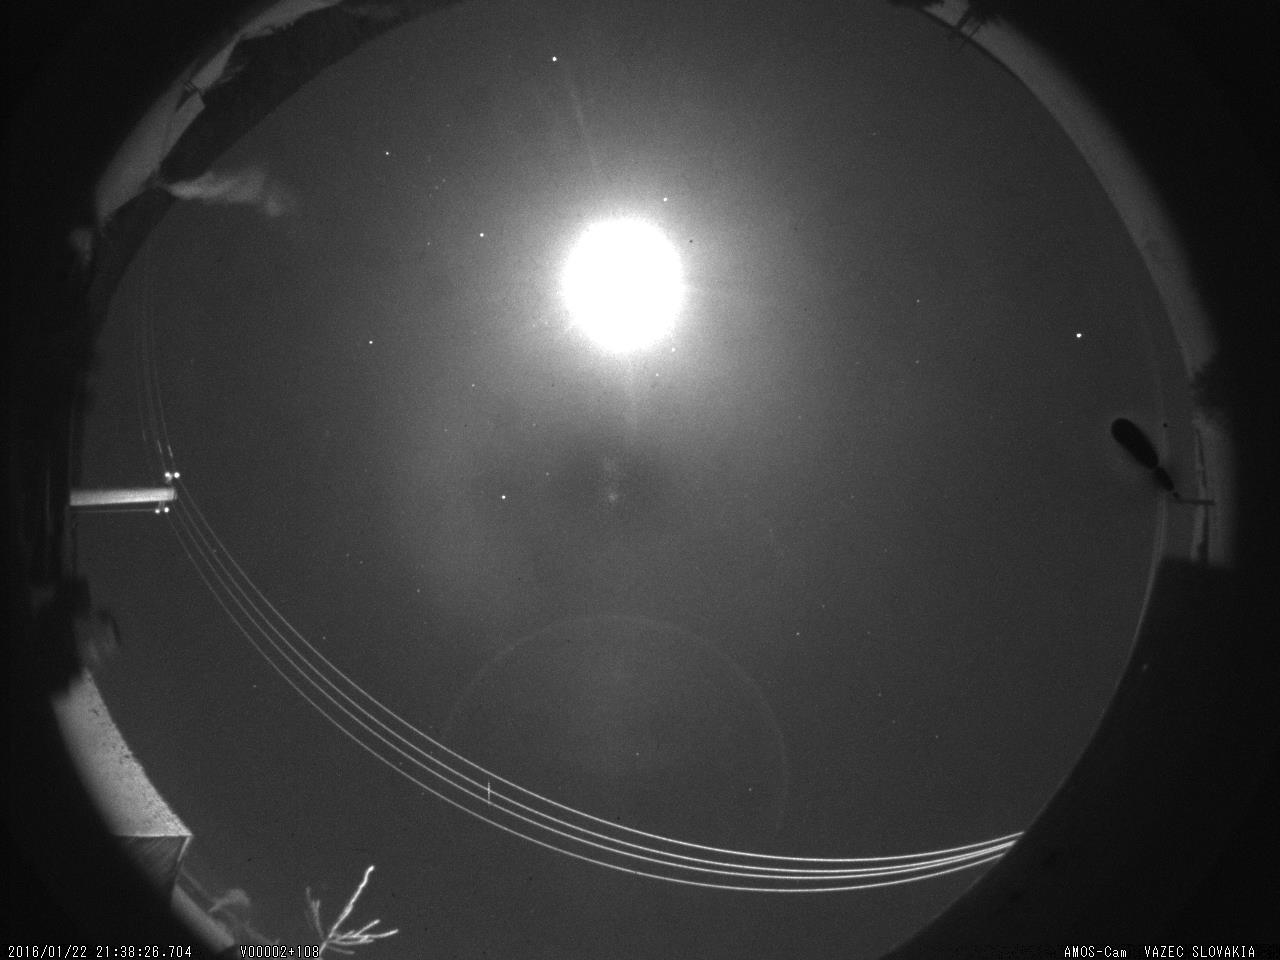meteor: (469, 769, 505, 818)
